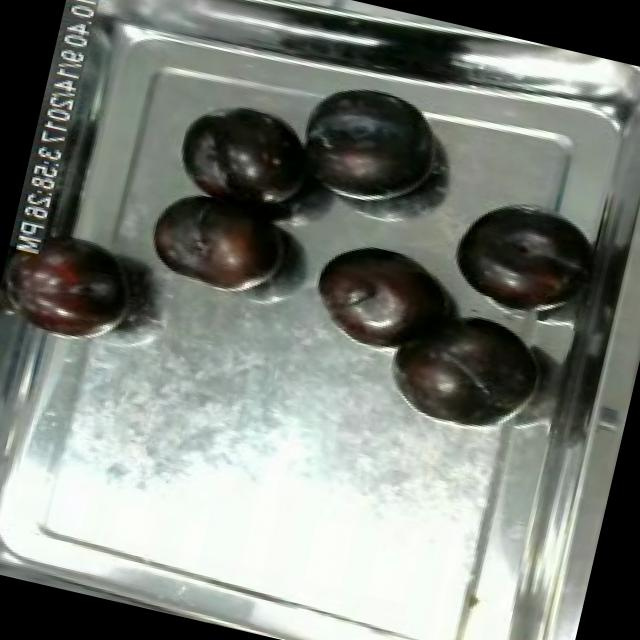Fruit: (371, 286, 554, 446), (282, 72, 454, 220), (296, 222, 470, 367), (434, 184, 599, 331), (134, 172, 304, 306), (167, 90, 325, 222), (0, 220, 147, 358)
